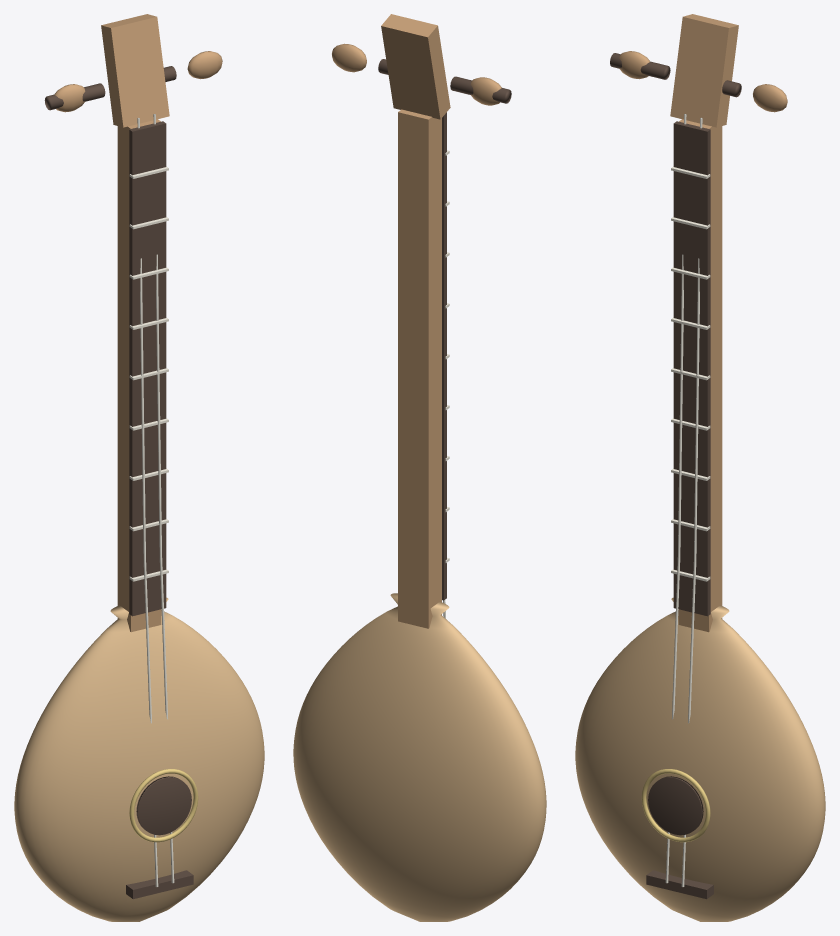
Rendered from dombra.glb.
3 views of the same model, side by side, from view 1: azimuth 30°, elevation 25°; view 2: azimuth 150°, elevation 25°; view 3: azimuth 330°, elevation 25° (orthographic).
Parts seen in each view (by area): view 1: body, fingerboard, neck, head, string (×2), soundhole, pegknob (×2), ring, bridge, peg; view 2: body, neck, head, fingerboard, pegknob (×2), peg; view 3: body, fingerboard, neck, head, string (×2), soundhole, pegknob (×2), ring, bridge, peg.
Boxes of the visible parts, bbox=[...] form: body: bbox=[14, 597, 264, 921]; fingerboard: bbox=[129, 121, 166, 616]; neck: bbox=[117, 119, 161, 632]; head: bbox=[101, 14, 169, 127]; string (×2): bbox=[137, 114, 174, 886]; soundhole: bbox=[136, 776, 191, 835]; pegknob (×2): bbox=[54, 51, 222, 112]; ring: bbox=[129, 769, 198, 842]; bridge: bbox=[126, 870, 193, 899]; peg: bbox=[44, 83, 105, 110]; body: bbox=[293, 593, 546, 921]; neck: bbox=[398, 109, 441, 628]; head: bbox=[381, 14, 450, 119]; fingerboard: bbox=[442, 112, 446, 600]; pegknob (×2): bbox=[332, 43, 501, 105]; peg: bbox=[450, 76, 511, 103]; body: bbox=[575, 597, 825, 921]; fingerboard: bbox=[673, 121, 710, 616]; neck: bbox=[678, 119, 722, 632]; head: bbox=[670, 14, 738, 127]; string (×2): bbox=[665, 114, 702, 886]; soundhole: bbox=[648, 776, 703, 835]; pegknob (×2): bbox=[619, 51, 787, 112]; ring: bbox=[641, 769, 710, 842]; bridge: bbox=[646, 870, 713, 899]; peg: bbox=[610, 53, 670, 79].
Bounding box in the file's own units: 1.38 × 4.8 × 0.4889.
